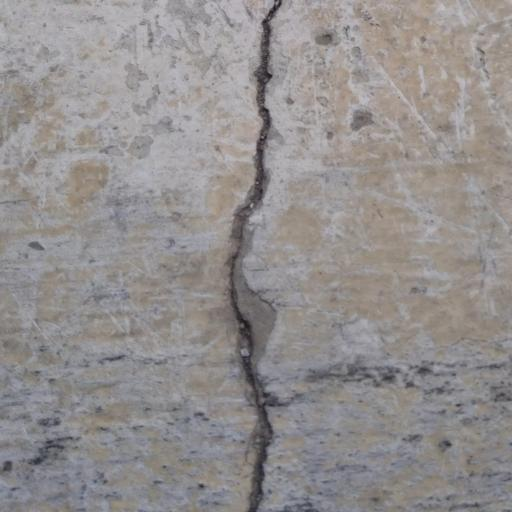major_crack: (217, 0, 302, 511)
